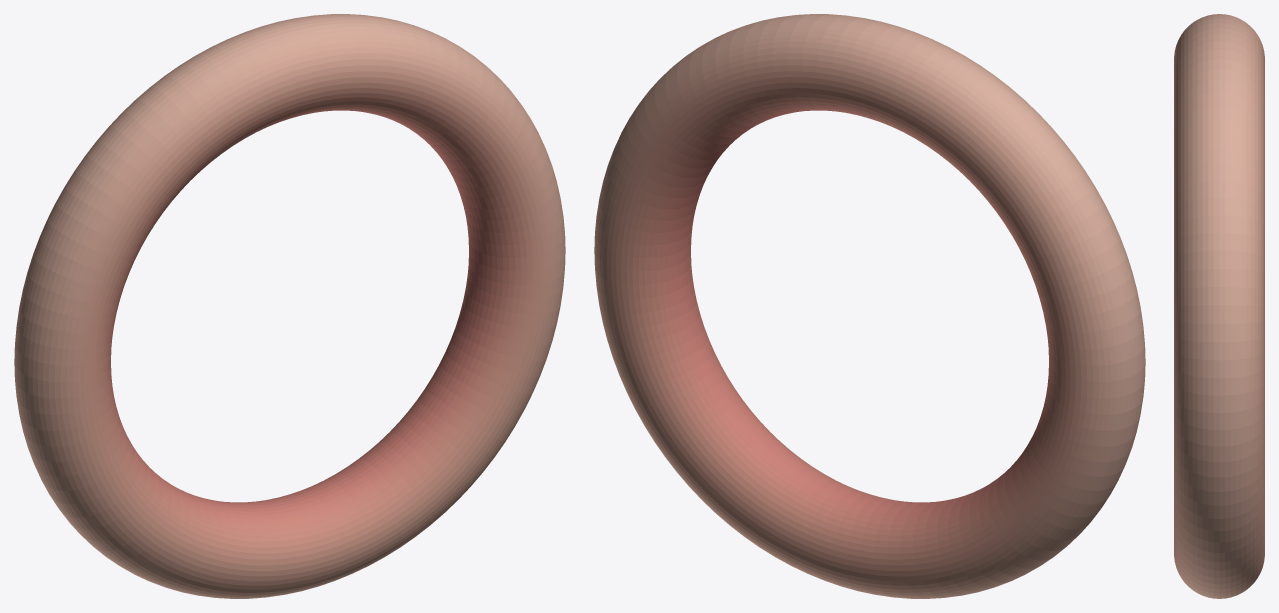
3 views of the same model, side by side, from view 1: azimuth 30°, elevation 25°; view 2: azimuth 150°, elevation 25°; view 3: azimuth 270°, elevation 25° (orthographic). The views are drawn at different scales.
Visible parts, largest first — view 1: world; view 2: world; view 3: world.
Boxes of the visible parts, x1=… form: world: x1=14, y1=14, x2=565, y2=598; world: x1=594, y1=14, x2=1145, y2=598; world: x1=1174, y1=14, x2=1264, y2=598.
Bounding box in the file's own units: 19.73 × 19.73 × 3.06.
